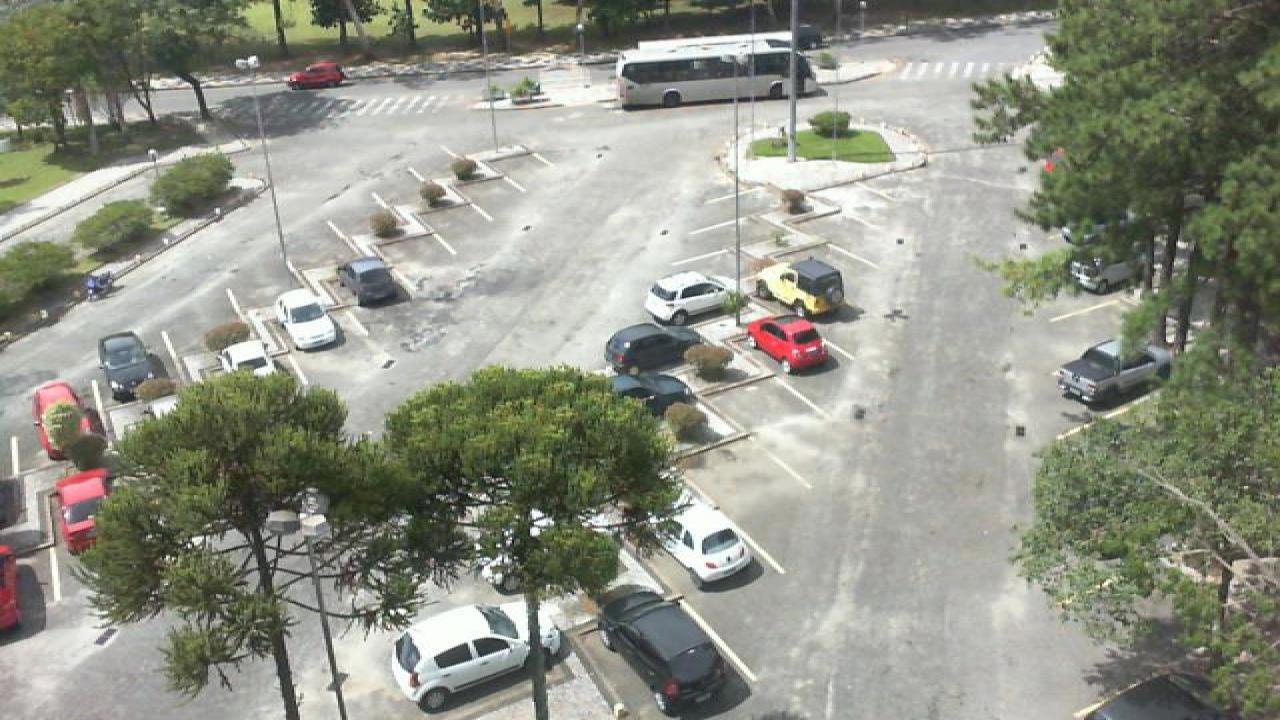Car: (384, 604, 570, 714), (594, 582, 744, 718), (652, 483, 760, 580), (1056, 335, 1174, 407), (600, 322, 712, 377), (754, 256, 846, 318), (640, 269, 738, 327), (744, 314, 834, 376), (1068, 228, 1148, 294), (30, 379, 94, 461), (54, 468, 112, 551), (96, 330, 160, 402), (274, 286, 340, 350), (604, 374, 692, 418), (336, 256, 404, 308), (212, 338, 278, 382)
